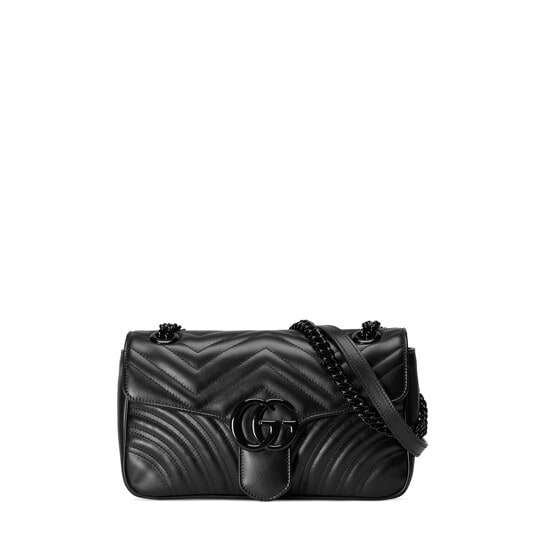Gucci: (91, 296, 454, 519), (140, 341, 327, 393), (225, 384, 299, 446)
